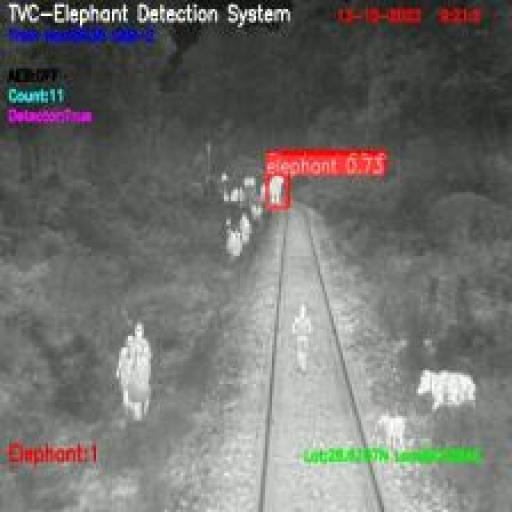Elephant: (265, 174, 285, 207)
